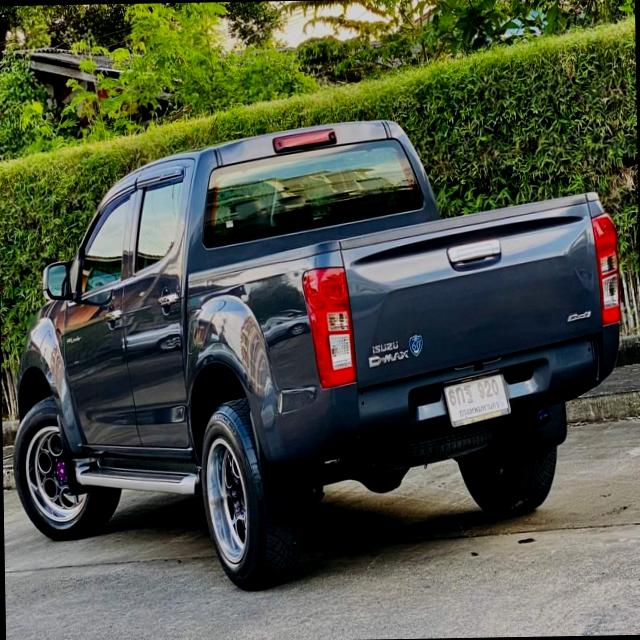license_plate: (440, 363, 516, 430)
